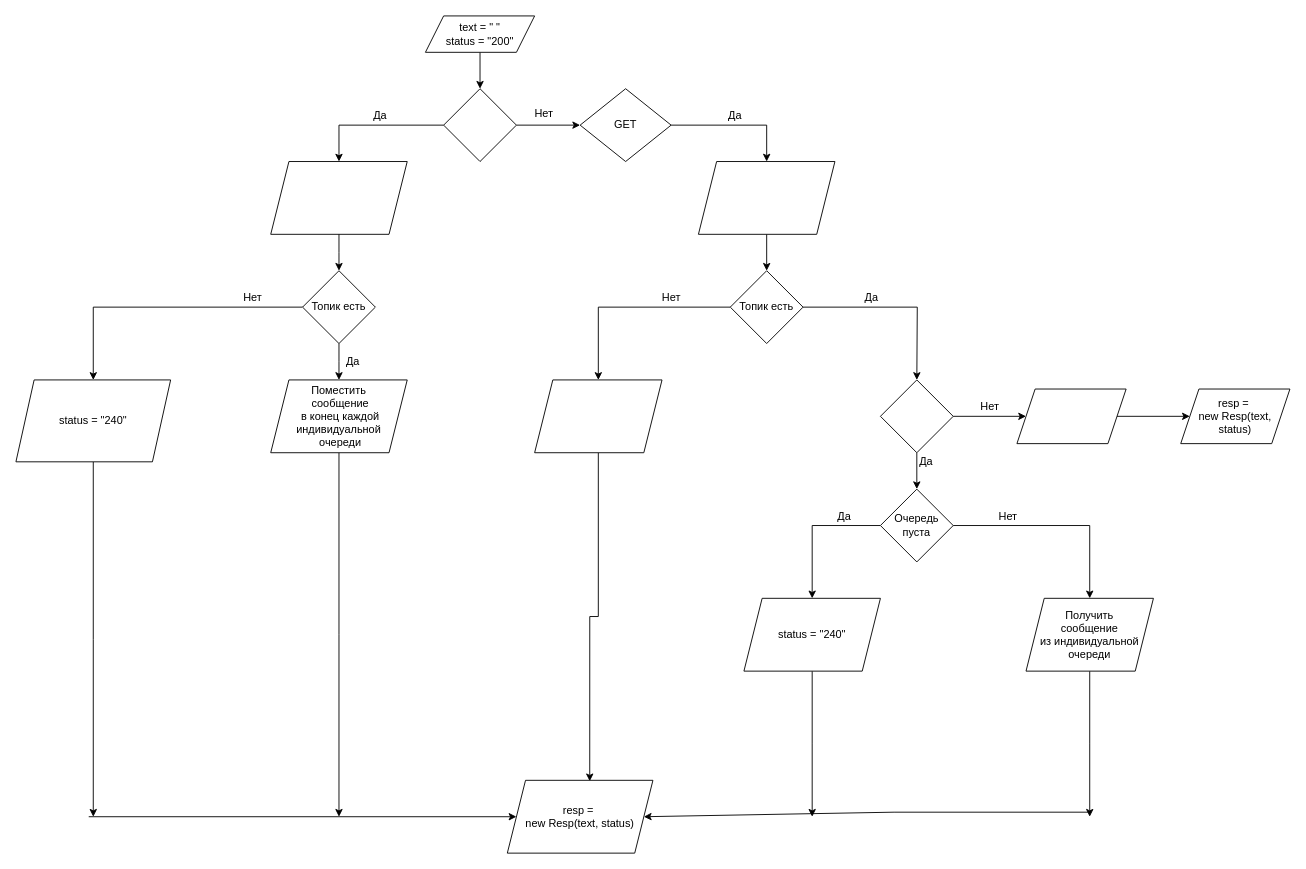
Some shapes in this 1306 by 869 pixel diagram are drawn without their labels. The centre of each missing label's shape, as x and y in pixels:
"Post" belongs at (x=479, y=125).
"Очередь есть" belongs at (x=916, y=416).
"Послать запрос на добавление данных с указанием топика и значением" belongs at (x=338, y=197).
"Послать запрос на поучение данных с указанием топика" belongs at (x=766, y=197).
"Создать очередь" belongs at (x=1071, y=416).
"Создать топик и создать индивидуальную очередь" belongs at (x=598, y=416).
